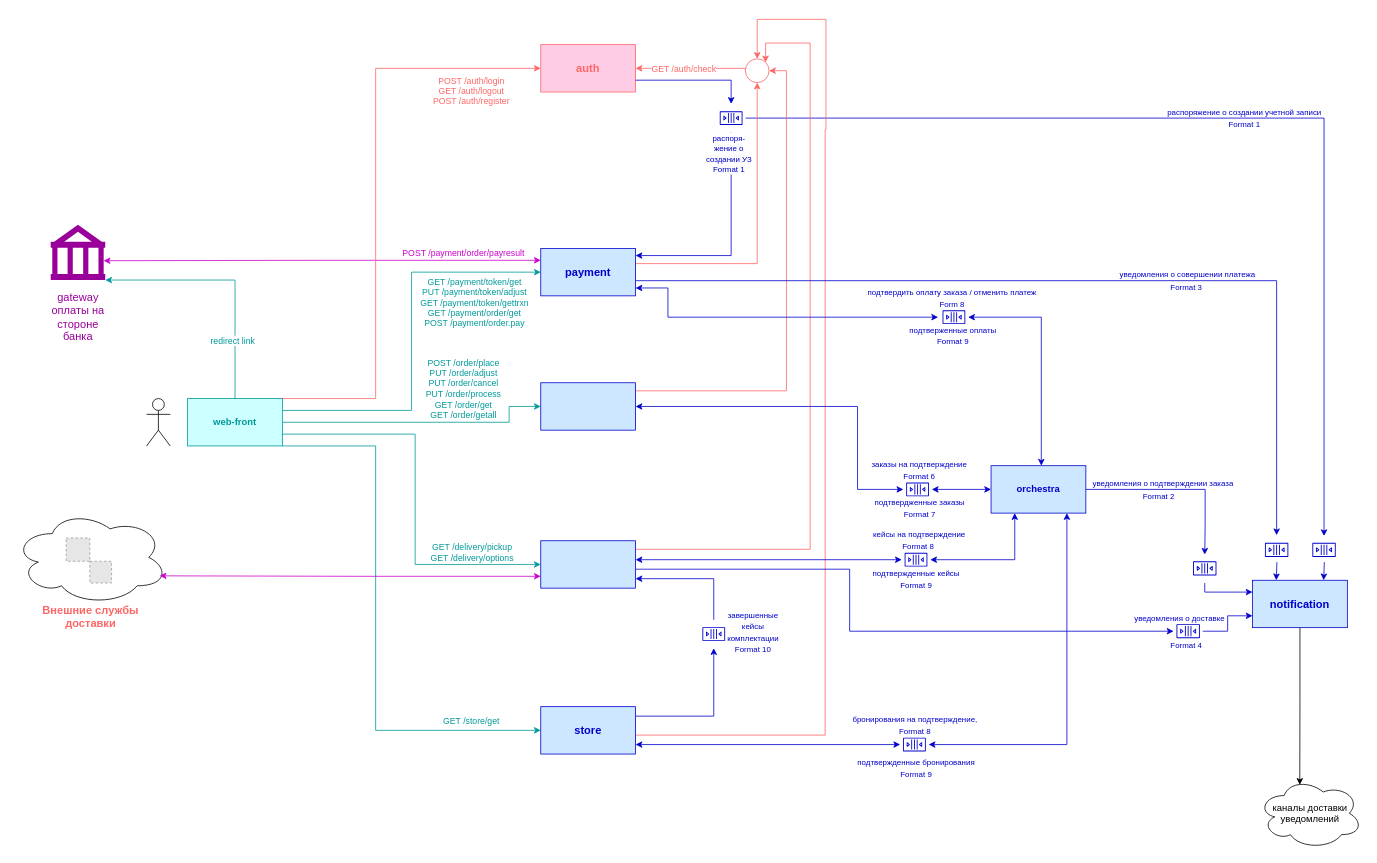
This 1377x863 diagram has some shape labels left out. Grey dashed boxes stand in for pictures. The box of each missing label's shape, as (x1, y1, x2, y2) in pixels:
Client: (146, 398, 170, 446)
delivery: (540, 540, 636, 588)
order: (540, 382, 636, 430)
